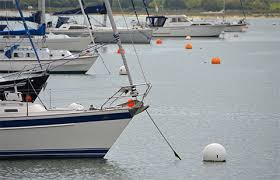buoy: (211, 57, 221, 64), (184, 44, 193, 49), (156, 39, 161, 43)
